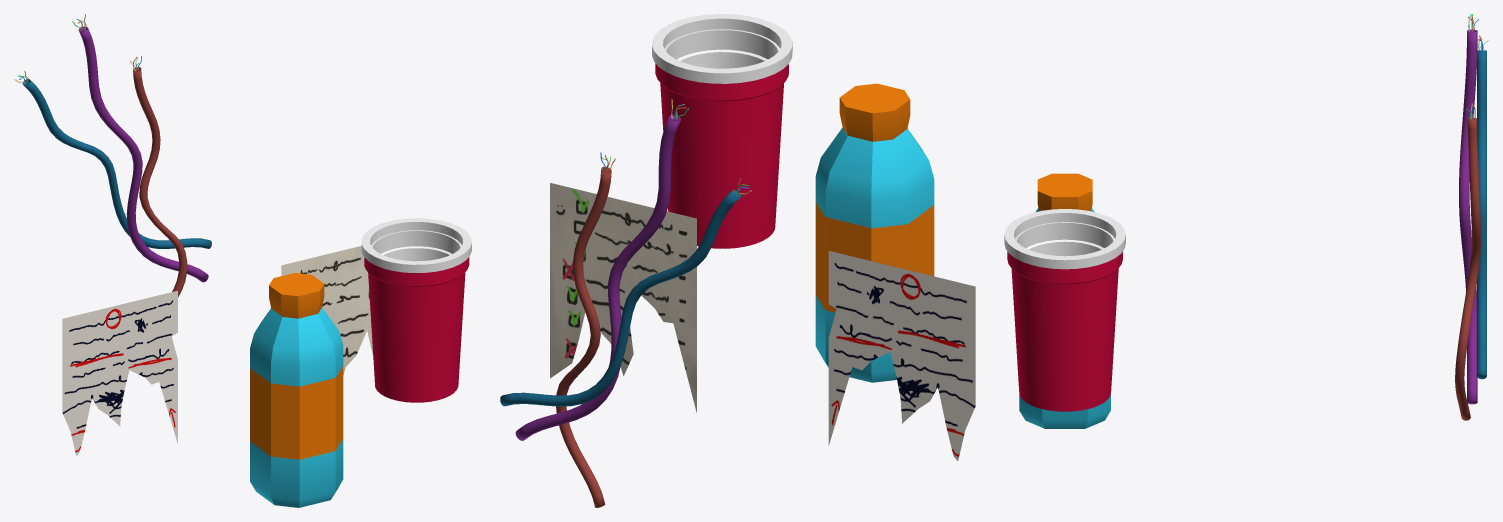
Rendered from AFVALNEW.fbx.
3 views of the same model, side by side, from view 1: azimuth 30°, elevation 25°; view 2: azimuth 150°, elevation 25°; view 3: azimuth 270°, elevation 25° (orthographic). The views are drawn at different scales.
Parts seen in each view (by area): view 1: AFVAL_fles, AFVAL_cup, AFVAL_papier.001, AFVAL_papier, MAINWIRE1, MAINWIRE3, MAINWIRE2; view 2: AFVAL_cup, AFVAL_fles, AFVAL_papier.001, AFVAL_papier, MAINWIRE1, MAINWIRE3, MAINWIRE2; view 3: AFVAL_cup, AFVAL_fles, MAINWIRE1, MAINWIRE2, MAINWIRE3.
Part boxes in pixels (x1=…): AFVAL_fles: x1=250, y1=273, x2=343, y2=507; AFVAL_cup: x1=361, y1=218, x2=471, y2=402; AFVAL_papier.001: x1=62, y1=290, x2=177, y2=455; AFVAL_papier: x1=281, y1=246, x2=373, y2=374; MAINWIRE1: x1=78, y1=26, x2=208, y2=282; MAINWIRE3: x1=22, y1=79, x2=211, y2=248; MAINWIRE2: x1=133, y1=67, x2=187, y2=297; AFVAL_cup: x1=652, y1=14, x2=792, y2=248; AFVAL_fles: x1=815, y1=83, x2=934, y2=382; AFVAL_papier.001: x1=828, y1=251, x2=975, y2=460; AFVAL_papier: x1=550, y1=183, x2=696, y2=412; MAINWIRE1: x1=515, y1=115, x2=680, y2=440; MAINWIRE3: x1=500, y1=190, x2=741, y2=406; MAINWIRE2: x1=556, y1=166, x2=611, y2=507; AFVAL_cup: x1=1004, y1=209, x2=1125, y2=411; AFVAL_fles: x1=1019, y1=173, x2=1110, y2=428; MAINWIRE1: x1=1459, y1=29, x2=1477, y2=404; MAINWIRE2: x1=1455, y1=117, x2=1481, y2=420; MAINWIRE3: x1=1477, y1=50, x2=1486, y2=379.
Bounding box in the file's own units: 924 × 918 × 1054.
Materials: 12 (4 with a texture image).
